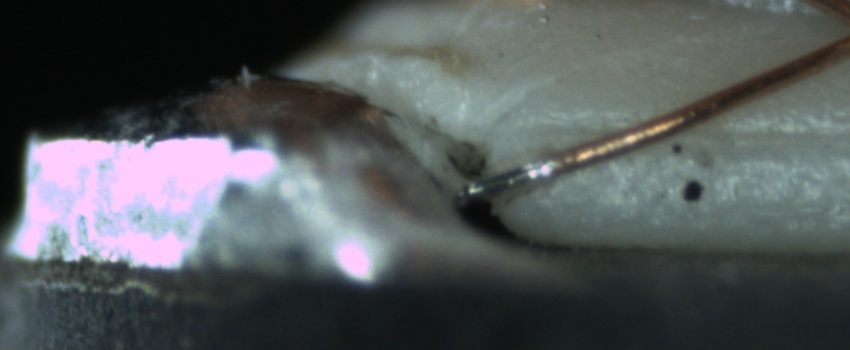CL: (829, 4, 850, 55)
DL: (529, 98, 850, 163)
TS: (465, 155, 557, 198)
